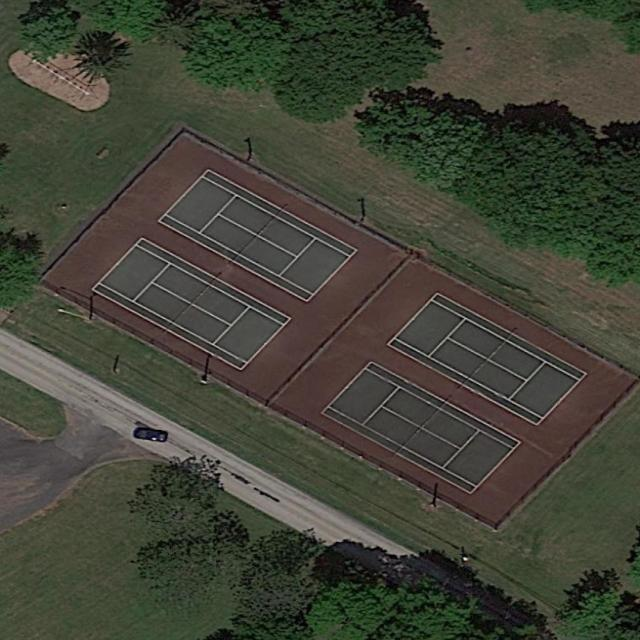small-vehicle: (132, 427, 169, 445)
